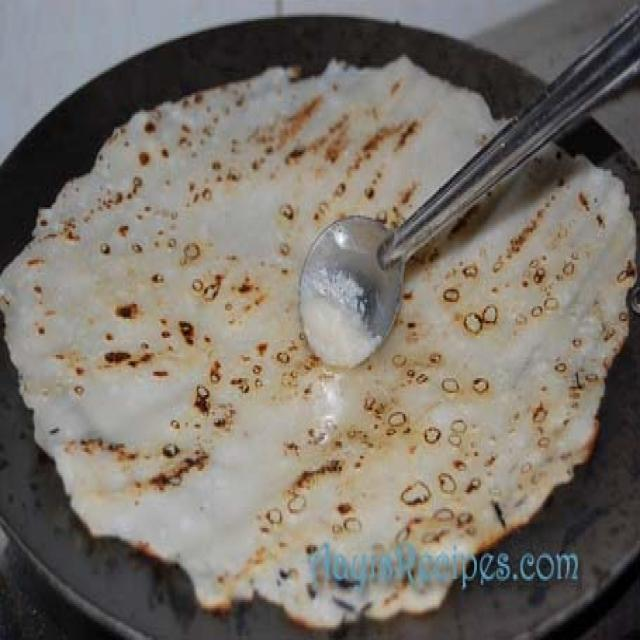RICE BHAKRI: (0, 59, 633, 625)
